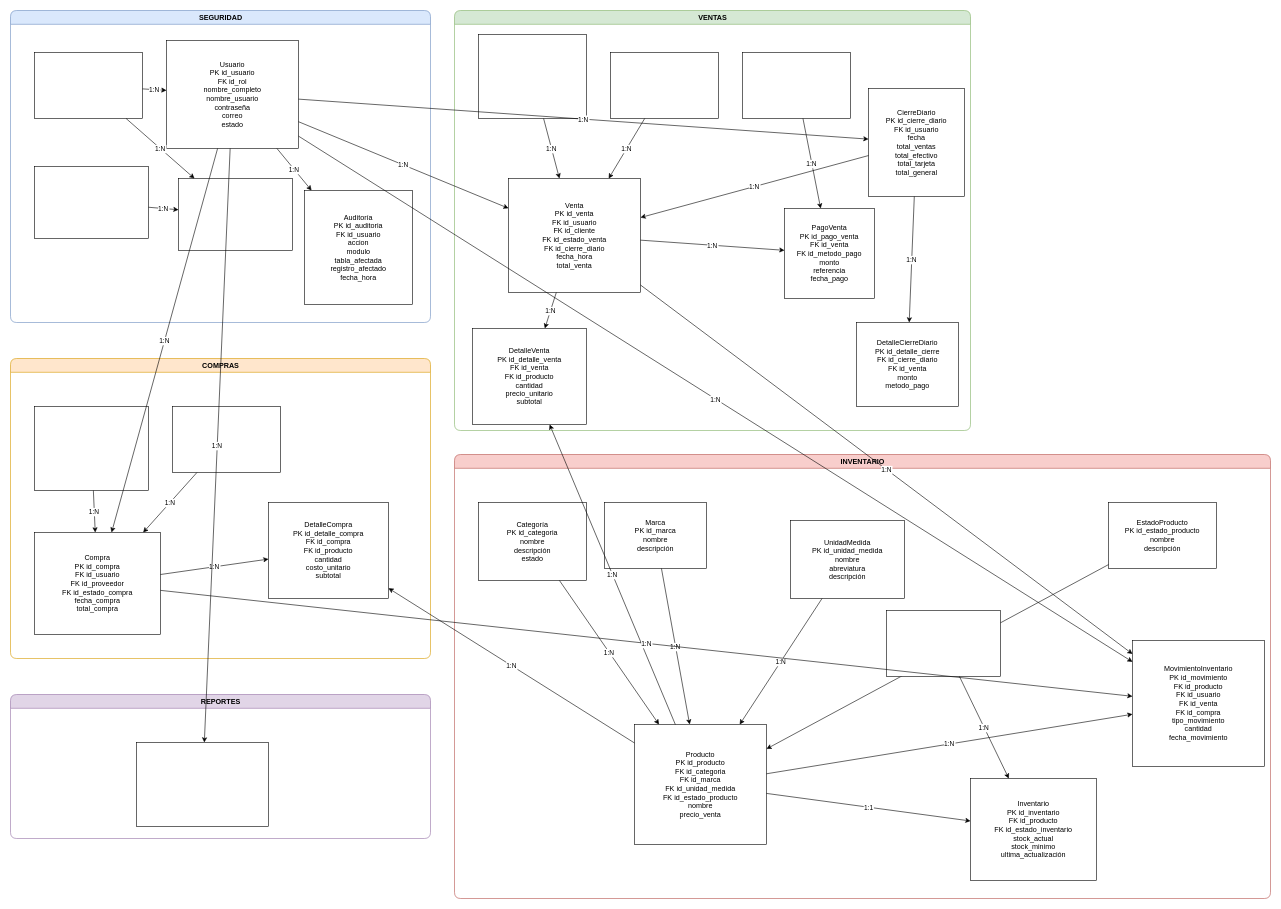
The diagram is 1281 pixels wide and 909 high, and some of its shapes have lost their labels. Each missing label, with the centre of its shape:
Cliente PK id_cliente nombre_completo telefono direccion estado: point (532, 76)
EstadoCompra PK id_estado_compra nombre descripción: point (226, 439)
EstadoInventario PK id_estado_inventario nombre descripción: point (943, 643)
EstadoVenta PK id_estado_venta nombre descripción: point (664, 85)
MétodoPago PK id_metodo_pago nombre descripción: point (796, 85)
Permiso PK id_permiso nombre descripción módulo: point (91, 202)
Proveedor PK id_proveedor nombre_proveedor telefono direccion estado: point (91, 448)
Reporte PK id_reporte FK id_usuario tipo_reporte fecha_generación observaciones: point (202, 784)
Rol PK id_rol nombre descripción: point (88, 85)
RolPermiso PK id_rol_permiso FK id_rol FK id_permiso: point (235, 214)
